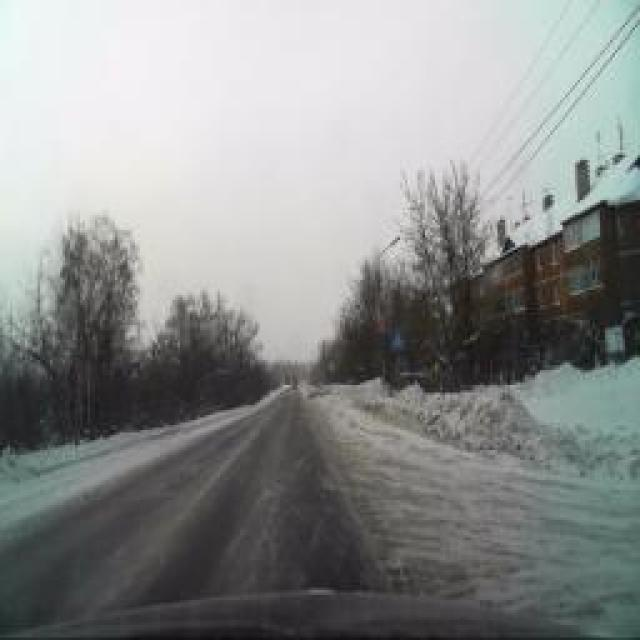sign: (390, 326, 405, 354)
